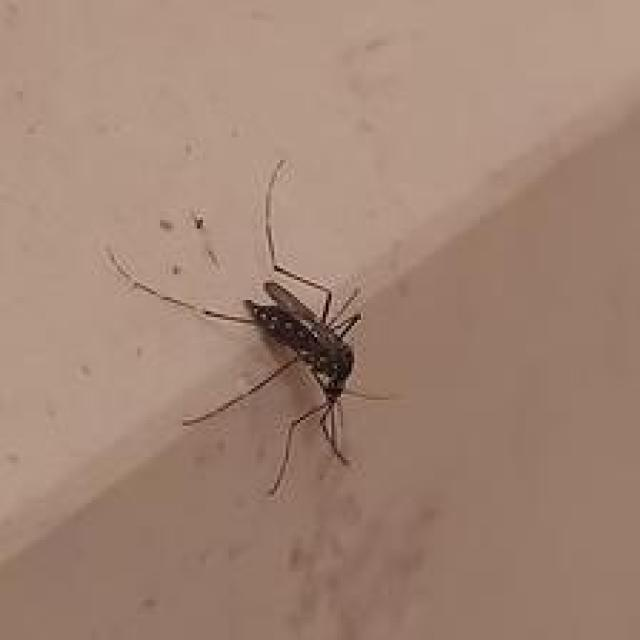Aedes albopictus: (104, 157, 396, 497)
